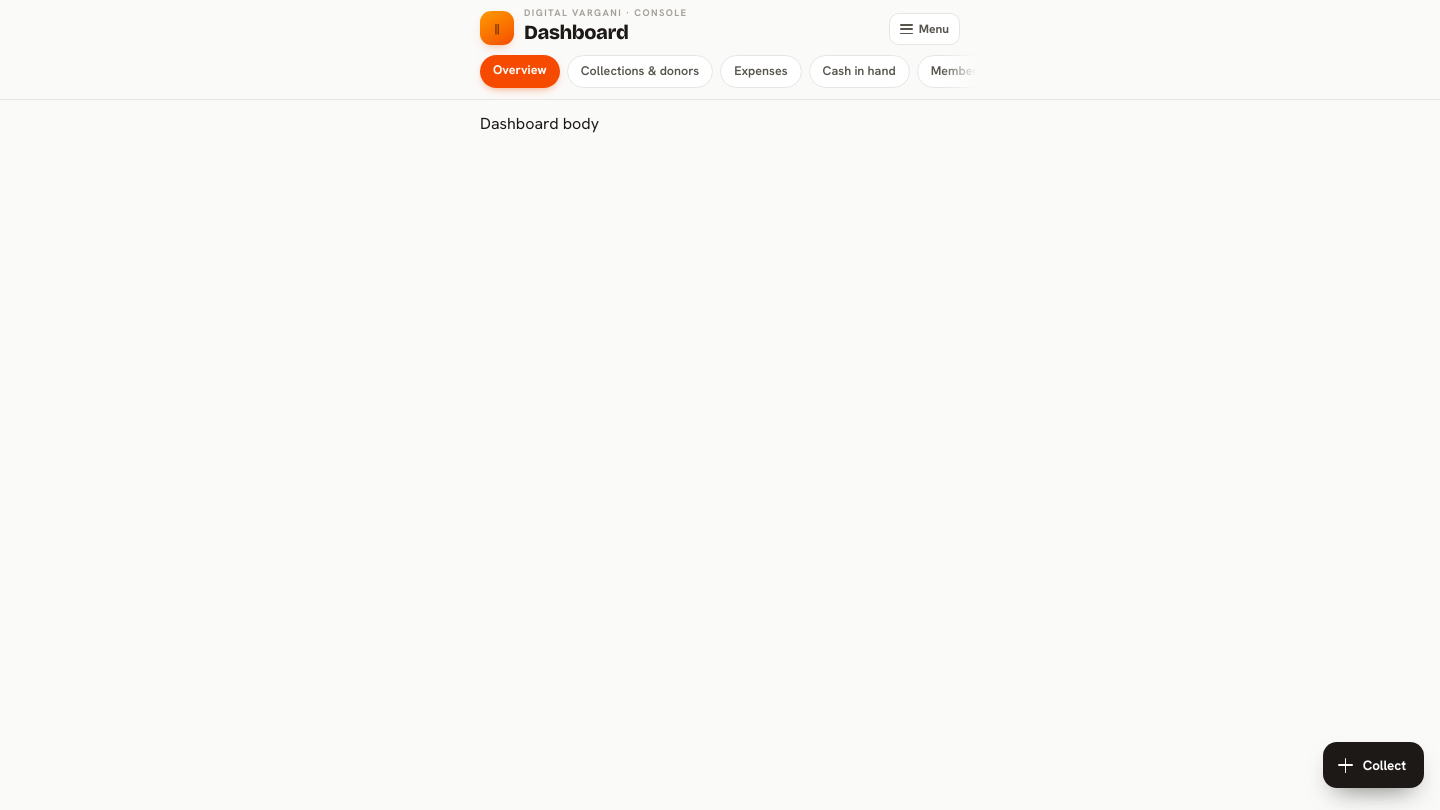
AdminLayout › puts the sections the tab row cannot hold, and sign out, behind Menu
Expected: the button "Sign out" is not shown
What coordinates should you click on to do the following:
click the button "Menu"
I would click on:
 (924, 29)
Its box is [889,13,960,45].
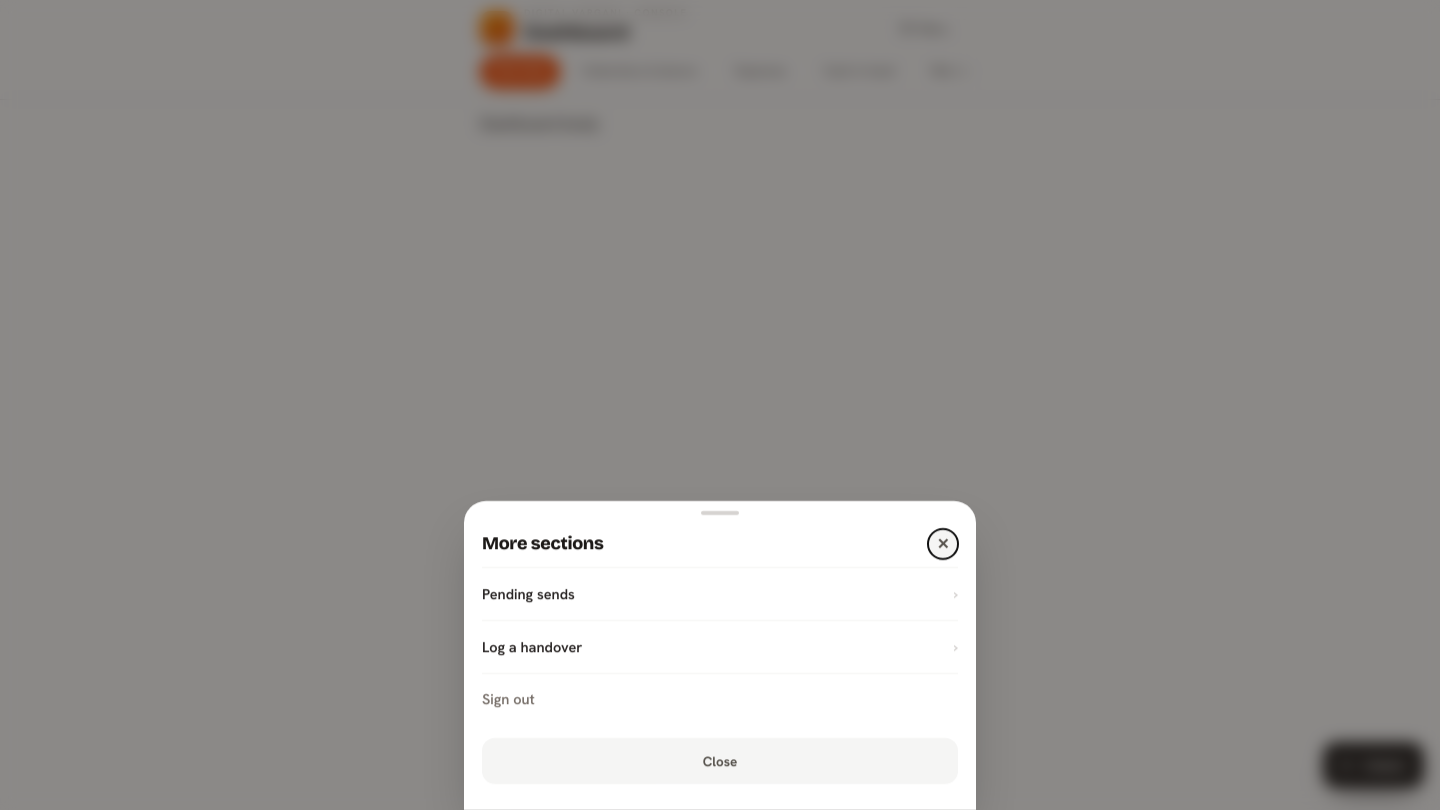
Expected: the heading "More sections" is shown, [482,532,603,554]
Expected: the button "Sign out" is shown, [482,673,958,724]
